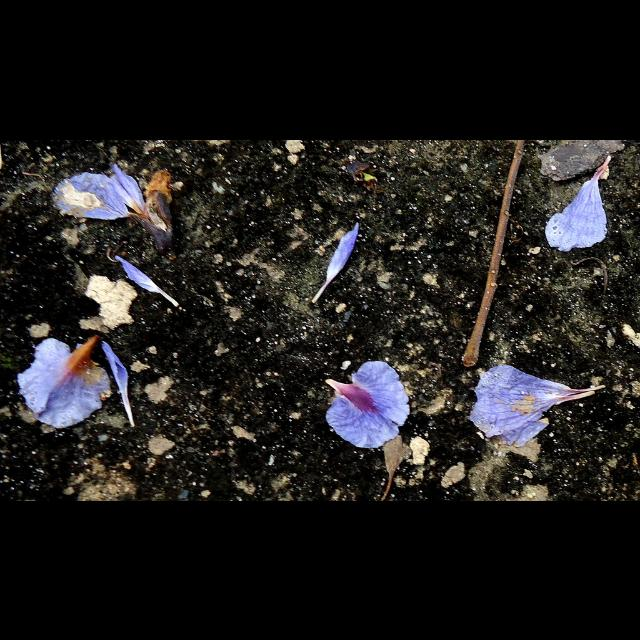Flower: (470, 362, 602, 444), (19, 336, 111, 428), (328, 358, 417, 448), (545, 152, 611, 250), (55, 163, 157, 221)
